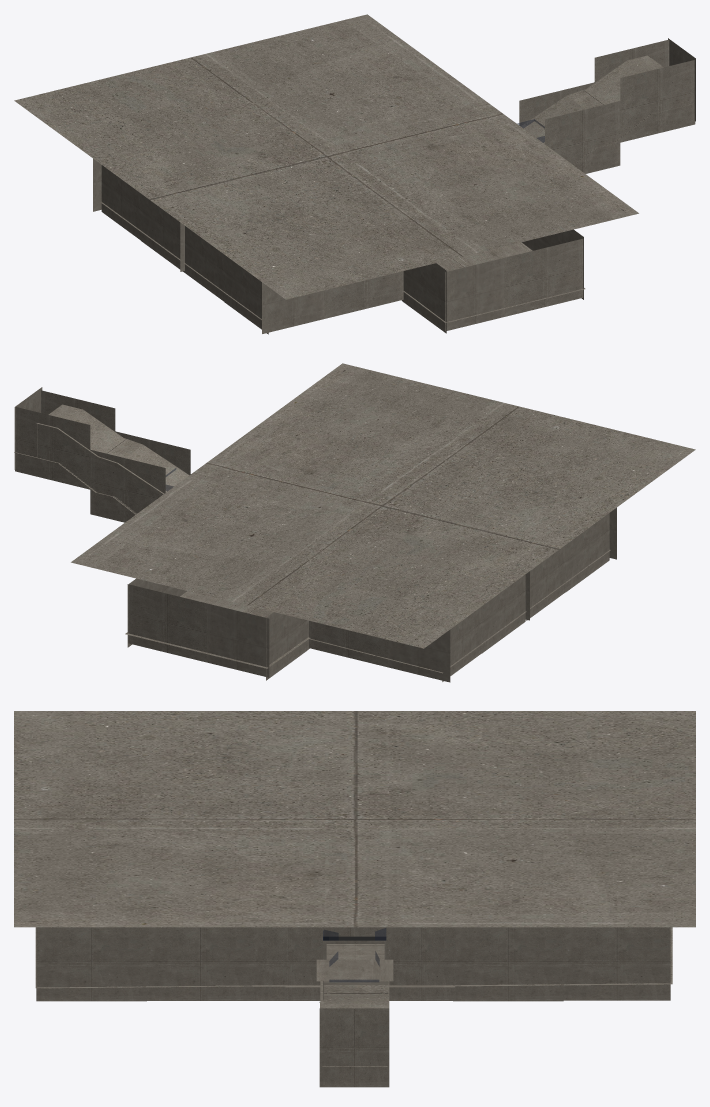
The model's file is 3drop_gallery_v136.glb.
3 renders of one model, top to bottom at view 1: azimuth 30°, elevation 25°; view 2: azimuth 150°, elevation 25°; view 3: azimuth 270°, elevation 25°, orthographic. The views are drawn at different scales.
Visible parts, largest first — view 1: frameConcreteExternalTop, demoZoneSurroundingPlanes, entranceBackCeiling, sideLeftPlateformConcrete_grndPhys; view 2: frameConcreteExternalTop, demoZoneSurroundingPlanes, entranceBackCeiling, sideRightPlateformConcrete_grndPhys; view 3: frameConcreteExternalTop, demoZoneSurroundingPlanes, entranceBackCeiling, entranceLobbyConcrete, frameConcreteExternal.
Boxes of the visible parts, x1,y1,x2,y2 form: frameConcreteExternalTop: (14,14,638,299); demoZoneSurroundingPlanes: (93,38,695,334); entranceBackCeiling: (521,55,663,143); sideLeftPlateformConcrete_grndPhys: (403,242,585,323); frameConcreteExternalTop: (71,363,695,648); demoZoneSurroundingPlanes: (14,387,616,682); entranceBackCeiling: (36,404,189,494); sideRightPlateformConcrete_grndPhys: (125,591,309,668); frameConcreteExternalTop: (14,711,695,927); demoZoneSurroundingPlanes: (36,927,670,1087); entranceBackCeiling: (316,959,393,1008); entranceLobbyConcrete: (323,940,386,1000); frameConcreteExternal: (323,927,386,936).
Size of what is drawn, in the model's own units: 283 by 54 by 250.
Materials: 5 (4 with a texture image).
